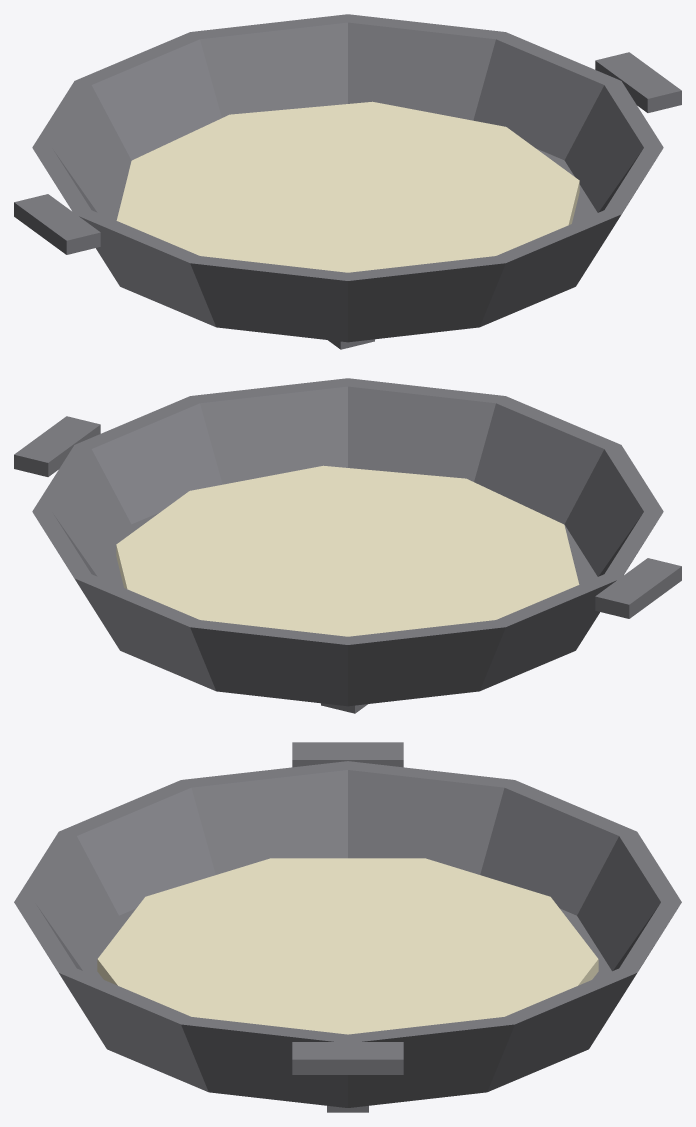
The model's file is prop-fat-render-pan.fbx.
The picture shows the model from 3 angles, top to bottom: view 1: azimuth 30°, elevation 25°; view 2: azimuth 150°, elevation 25°; view 3: azimuth 270°, elevation 25°; orthographic projection. The views are drawn at different scales.
Visible parts, largest first — view 1: prop-fat-render-pan; view 2: prop-fat-render-pan; view 3: prop-fat-render-pan.
Boxes of the visible parts, box(x1,y1,x2,y2) form: prop-fat-render-pan: box(14, 14, 681, 349); prop-fat-render-pan: box(14, 378, 681, 713); prop-fat-render-pan: box(14, 742, 681, 1112).
Bounding box in the file's own units: 54 × 9.1 × 48.
